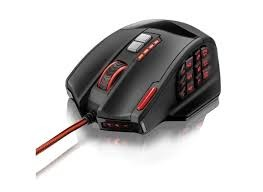mouse: (57, 17, 227, 147)
